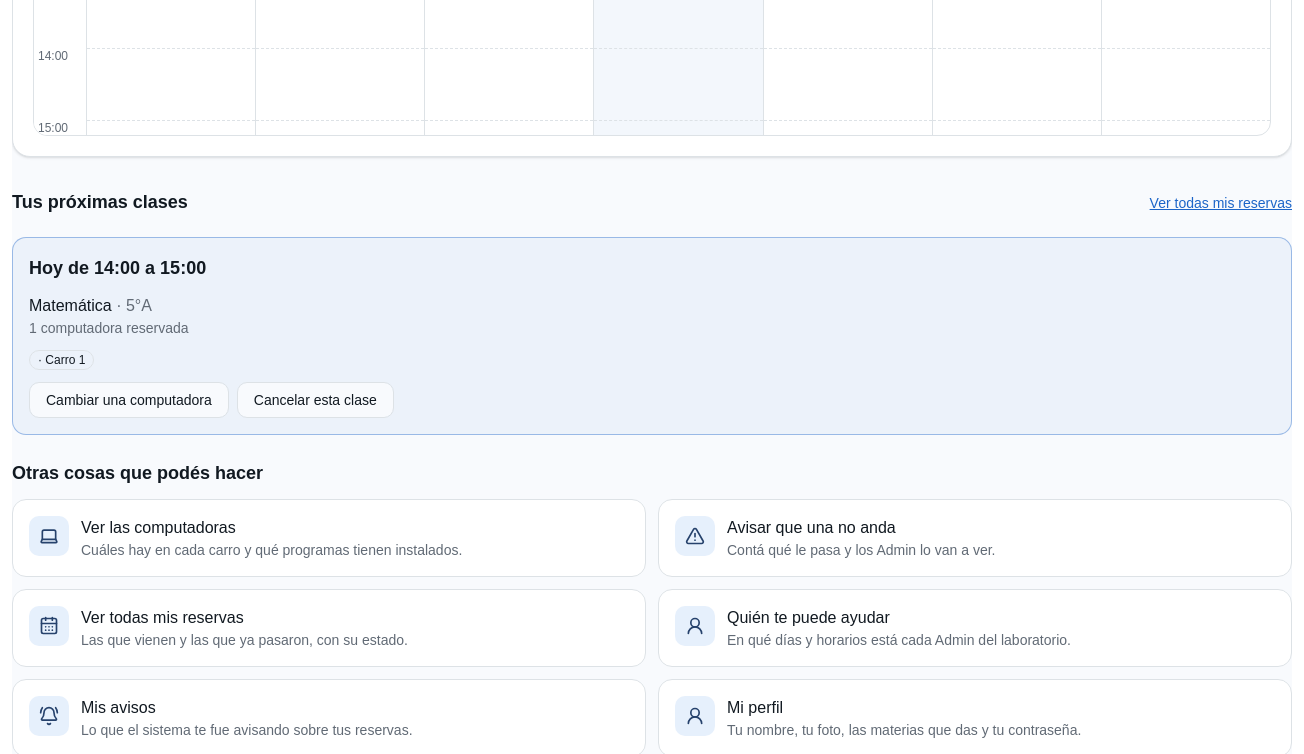
it: InicioPage › resolver sin salir del inicio › cambia una computadora de una reserva ya hecha
(page scrolled)
Step 1. Click the button "Cambiar una computadora" → (129, 400), box 29,382 -> 229,418
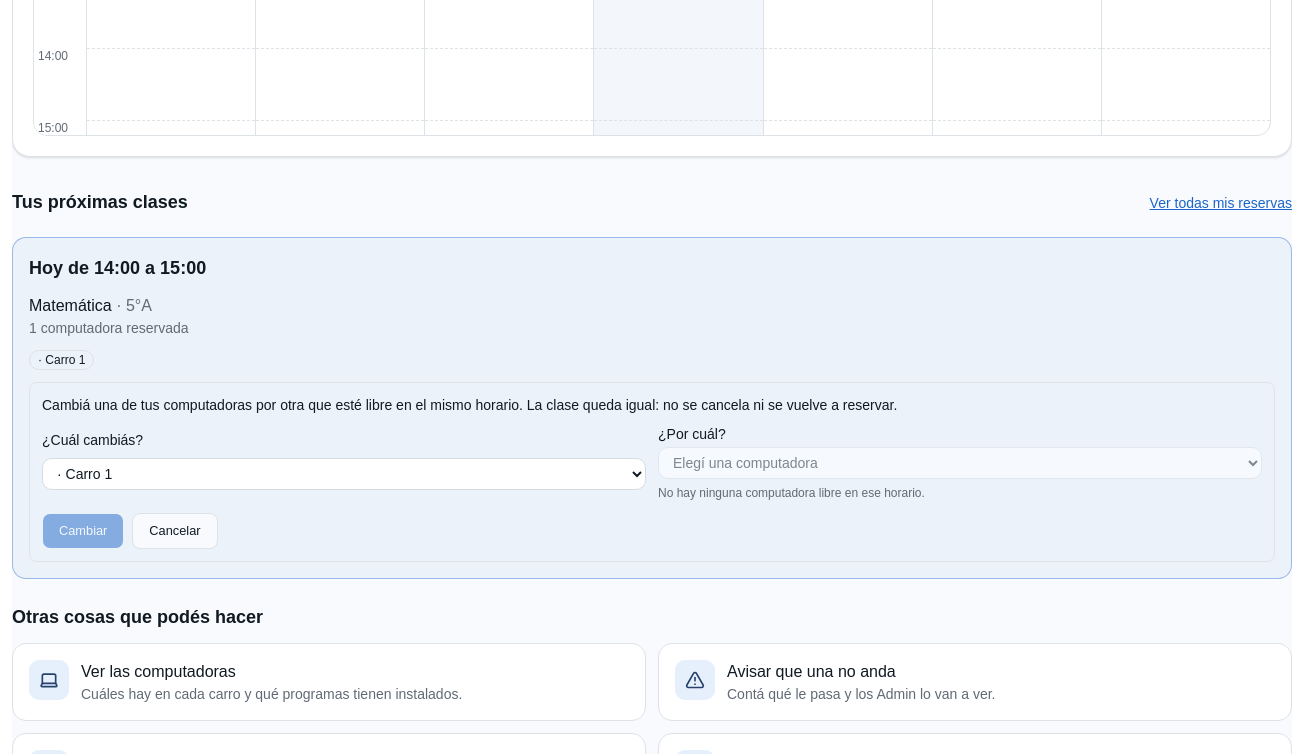
Expected: the dropdown labelled "¿Cuál cambiás?" is shown, 42,458 -> 646,490
